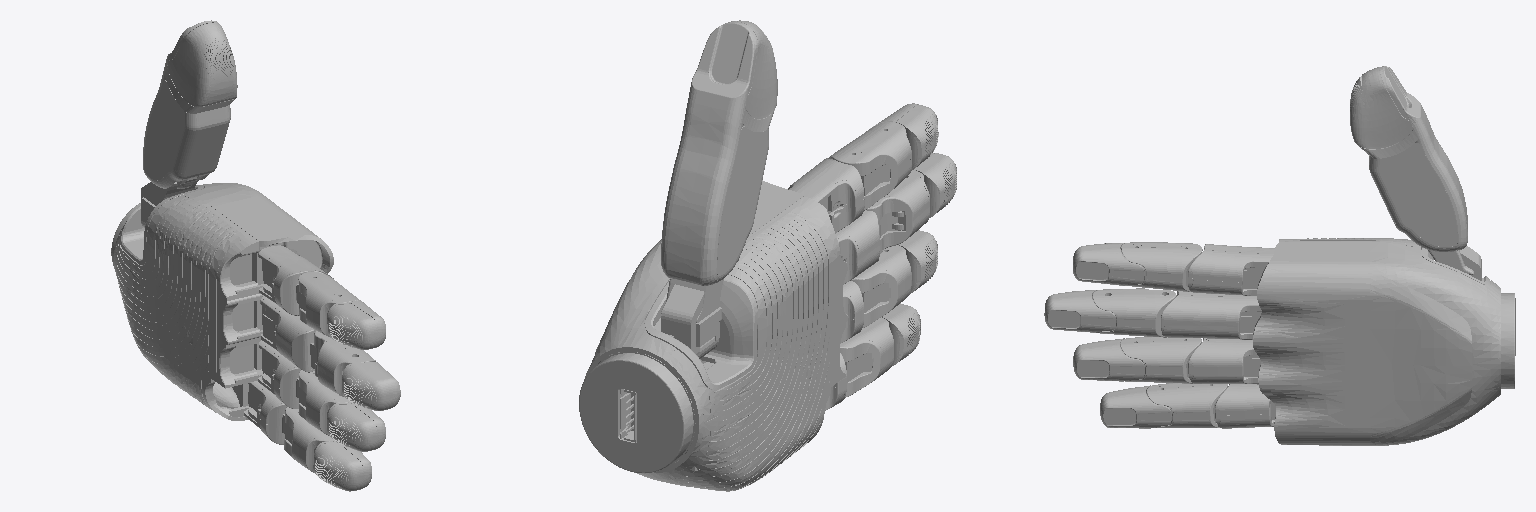
robot.urdf — CASIAHAND-M:
<?xml version="1.0" encoding="utf-8"?>
<!-- This URDF was automatically created by SolidWorks to URDF Exporter! Originally created by Stephen Brawner (brawner@gmail.com) 
     Commit Version: 1.6.0-4-g7f85cfe  Build Version: 1.6.7995.38578
     For more information, please see http://wiki.ros.org/sw_urdf_exporter -->
<robot
  name="CASIAHAND-M">
  
  <link name="world"/>
  <joint name="world_to_hand" type="fixed">
    <parent link="world"/>
    <child link="base_link"/>
    <origin xyz="0 0 0" rpy="-1.5707963 0 3.14"/>
  </joint>

  <link
    name="base_link">
    <inertial>
      <origin
        xyz="0.00164451575302165 -0.000734449147582975 0.0527981317640287"
        rpy="0 0 0" />
      <mass
        value="0.274097437160325" />
      <inertia
        ixx="0.000248493585013908"
        ixy="7.00228415757856E-07"
        ixz="1.84016764910039E-07"
        iyy="0.000147387452936371"
        iyz="1.77909959249099E-05"
        izz="0.000129458679014438" />
    </inertial>
    <visual>
      <origin
        xyz="0 0 0"
        rpy="0 0 0" />
      <geometry>
        <mesh
          filename="meshes/base_link.STL" />
      </geometry>
      <material
        name="">
        <color
          rgba="0.752941176470588 0.752941176470588 0.752941176470588 1" />
      </material>
    </visual>
    <collision>
      <origin
        xyz="0 0 0"
        rpy="0 0 0" />
      <geometry>
        <mesh
          filename="meshes/base_link.STL" />
      </geometry>
    </collision>
  </link>
  <link
    name="Empty_Link1-1">
    <inertial>
      <origin
        xyz="-0.000679874481411311 -0.0105069886903272 0.0112253116499081"
        rpy="0 0 0" />
      <mass
        value="0.00662830922359061" />
      <inertia
        ixx="3.69679305670947E-07"
        ixy="-1.20819402080067E-08"
        ixz="3.0567532310443E-09"
        iyy="1.9191717532638E-07"
        iyz="3.38488131558605E-08"
        izz="3.52242096763109E-07" />
    </inertial>
    <visual>
      <origin
        xyz="0 0 0"
        rpy="0 0 0" />
      <geometry>
        <mesh
          filename="meshes/Empty_Link1-1.STL" />
      </geometry>
      <material
        name="">
        <color
          rgba="0.752941176470588 0.752941176470588 0.752941176470588 1" />
      </material>
    </visual>
    <collision>
      <origin
        xyz="0 0 0"
        rpy="0 0 0" />
      <geometry>
        <mesh
          filename="meshes/Empty_Link1-1.STL" />
      </geometry>
    </collision>
  </link>
  <joint
    name="thumb1"
    type="revolute">
    <origin
      xyz="0.0083614 -0.018144 0.013699"
      rpy="0 0 0" />
    <parent
      link="base_link" />
    <child
      link="Empty_Link1-1" />
    <axis
      xyz="0 0 1" />
    <limit
      lower="0"
      upper="1.57"
      effort="0"
      velocity="0" />
  </joint>
  <link
    name="Empty_Link1-2">
    <inertial>
      <origin
        xyz="0.00497815039889659 -0.0250191973427338 0.00734179672386692"
        rpy="0 0 0" />
      <mass
        value="0.0317327548443066" />
      <inertia
        ixx="1.11134800767335E-05"
        ixy="-1.39415310181854E-08"
        ixz="-3.51996087107295E-08"
        iyy="4.24330856024896E-06"
        iyz="3.14364339451875E-06"
        izz="9.16331523640202E-06" />
    </inertial>
    <visual>
      <origin
        xyz="0 0 0"
        rpy="0 0 0" />
      <geometry>
        <mesh
          filename="meshes/Empty_Link1-2.STL" />
      </geometry>
      <material
        name="">
        <color
          rgba="0.752941176470588 0.752941176470588 0.752941176470588 1" />
      </material>
    </visual>
    <collision>
      <origin
        xyz="0 0 0"
        rpy="0 0 0" />
      <geometry>
        <mesh
          filename="meshes/Empty_Link1-2.STL" />
      </geometry>
    </collision>
  </link>
  <joint
    name="thumb2"
    type="revolute">
    <origin
      xyz="-0.0055 -0.029112 0.020996"
      rpy="0 0 0" />
    <parent
      link="Empty_Link1-1" />
    <child
      link="Empty_Link1-2" />
    <axis
      xyz="1 0 0" />
    <limit
      lower="-1.204"
      upper="0"
      effort="0"
      velocity="0" />
  </joint>
  <link
    name="Empty_Link2-1">
    <inertial>
      <origin
        xyz="-0.00119054522331894 -0.00484453355650832 0.0116663381559276"
        rpy="0 0 0" />
      <mass
        value="0.0100825140915391" />
      <inertia
        ixx="8.15537100412182E-07"
        ixy="-2.95185287307733E-09"
        ixz="1.44982489151734E-08"
        iyy="8.50894015152069E-07"
        iyz="2.29100719817063E-08"
        izz="2.751626034981E-07" />
    </inertial>
    <visual>
      <origin
        xyz="0 0 0"
        rpy="0 0 0" />
      <geometry>
        <mesh
          filename="meshes/Empty_Link2-1.STL" />
      </geometry>
      <material
        name="">
        <color
          rgba="0.752941176470588 0.752941176470588 0.752941176470588 1" />
      </material>
    </visual>
    <collision>
      <origin
        xyz="0 0 0"
        rpy="0 0 0" />
      <geometry>
        <mesh
          filename="meshes/Empty_Link2-1.STL" />
      </geometry>
    </collision>
  </link>
  <joint
    name="index1"
    type="revolute">
    <origin
      xyz="0.0042728 -0.024135 0.10396"
      rpy="0.052045 0 0" />
    <parent
      link="base_link" />
    <child
      link="Empty_Link2-1" />
    <axis
      xyz="0 1 0" />
    <limit
      lower="0"
      upper="1.57"
      effort="0"
      velocity="0" />
  </joint>
  <link
    name="Empty_Link2-2">
    <inertial>
      <origin
        xyz="-4.93323979241544E-05 0.00444870984416025 0.0101448898472118"
        rpy="0 0 0" />
      <mass
        value="0.00639188939844659" />
      <inertia
        ixx="5.44609757728696E-07"
        ixy="-6.82840758881288E-10"
        ixz="-1.33607493142449E-08"
        iyy="5.09411996426482E-07"
        iyz="-1.32856028865584E-09"
        izz="2.61583468282929E-07" />
    </inertial>
    <visual>
      <origin
        xyz="0 0 0"
        rpy="0 0 0" />
      <geometry>
        <mesh
          filename="meshes/Empty_Link2-2.STL" />
      </geometry>
      <material
        name="">
        <color
          rgba="0.752941176470588 0.752941176470588 0.752941176470588 1" />
      </material>
    </visual>
    <collision>
      <origin
        xyz="0 0 0"
        rpy="0 0 0" />
      <geometry>
        <mesh
          filename="meshes/Empty_Link2-2.STL" />
      </geometry>
    </collision>
  </link>
  <joint
    name="index2"
    type="revolute">
    <origin
      xyz="0 -0.0094 0.03"
      rpy="0 0 0" />
    <parent
      link="Empty_Link2-1" />
    <child
      link="Empty_Link2-2" />
    <axis
      xyz="0 1 0" />
    <limit
      lower="0"
      upper="1.57"
      effort="0"
      velocity="0" />
  </joint>
  <link
    name="Empty_Link2-3">
    <inertial>
      <origin
        xyz="-0.00084805515543586 0.00351748598931599 0.0125727966981701"
        rpy="0 0 0" />
      <mass
        value="0.0041298974386508" />
      <inertia
        ixx="1.77070795516936E-07"
        ixy="-1.4570514274562E-12"
        ixz="-2.19532452307079E-09"
        iyy="2.03044151010076E-07"
        iyz="-6.06973705033866E-11"
        izz="1.15107651688296E-07" />
    </inertial>
    <visual>
      <origin
        xyz="0 0 0"
        rpy="0 0 0" />
      <geometry>
        <mesh
          filename="meshes/Empty_Link2-3.STL" />
      </geometry>
      <material
        name="">
        <color
          rgba="0.752941176470588 0.752941176470588 0.752941176470588 1" />
      </material>
    </visual>
    <collision>
      <origin
        xyz="0 0 0"
        rpy="0 0 0" />
      <geometry>
        <mesh
          filename="meshes/Empty_Link2-3.STL" />
      </geometry>
    </collision>
  </link>
  <joint
    name="index3"
    type="revolute">
    <origin
      xyz="0.00017147 0.0010463 0.019999"
      rpy="0 0 0" />
    <parent
      link="Empty_Link2-2" />
    <child
      link="Empty_Link2-3" />
    <axis
      xyz="0 -1 0" />
    <limit
      lower="-0.523"
      upper="0"
      effort="0"
      velocity="0" />
  </joint>
  <link
    name="Empty_Link3-1">
    <inertial>
      <origin
        xyz="-0.000793391517288974 0.00510252185733782 0.0166417479302781"
        rpy="0 0 0" />
      <mass
        value="0.0146233757016484" />
      <inertia
        ixx="1.81585582638692E-06"
        ixy="7.90690263926885E-10"
        ixz="1.05920071765767E-08"
        iyy="1.8938295989291E-06"
        iyz="-3.73588230679576E-08"
        izz="4.17600095897392E-07" />
    </inertial>
    <visual>
      <origin
        xyz="0 0 0"
        rpy="0 0 0" />
      <geometry>
        <mesh
          filename="meshes/Empty_Link3-1.STL" />
      </geometry>
      <material
        name="">
        <color
          rgba="0.752941176470588 0.752941176470588 0.752941176470588 1" />
      </material>
    </visual>
    <collision>
      <origin
        xyz="0 0 0"
        rpy="0 0 0" />
      <geometry>
        <mesh
          filename="meshes/Empty_Link3-1.STL" />
      </geometry>
    </collision>
  </link>
  <joint
    name="middle1"
    type="revolute">
    <origin
      xyz="0.0042728 -0.014418 0.10493"
      rpy="0.017453 0 0" />
    <parent
      link="base_link" />
    <child
      link="Empty_Link3-1" />
    <axis
      xyz="0 1 0" />
    <limit
      lower="0"
      upper="1.57"
      effort="0"
      velocity="0" />
  </joint>
  <link
    name="Empty_Link3-2">
    <inertial>
      <origin
        xyz="-7.59460842865412E-07 -0.00644045993280959 0.0125571137614096"
        rpy="0 0 0" />
      <mass
        value="0.00798996876926034" />
      <inertia
        ixx="5.42498750374713E-07"
        ixy="-1.45145758602452E-11"
        ixz="-4.6296679127425E-08"
        iyy="5.23141232915967E-07"
        iyz="3.39693802728385E-10"
        izz="3.03000062824471E-07" />
    </inertial>
    <visual>
      <origin
        xyz="0 0 0"
        rpy="0 0 0" />
      <geometry>
        <mesh
          filename="meshes/Empty_Link3-2.STL" />
      </geometry>
      <material
        name="">
        <color
          rgba="0.752941176470588 0.752941176470588 0.752941176470588 1" />
      </material>
    </visual>
    <collision>
      <origin
        xyz="0 0 0"
        rpy="0 0 0" />
      <geometry>
        <mesh
          filename="meshes/Empty_Link3-2.STL" />
      </geometry>
    </collision>
  </link>
  <joint
    name="middle2"
    type="revolute">
    <origin
      xyz="0 0.0114 0.037"
      rpy="0 0 0" />
    <parent
      link="Empty_Link3-1" />
    <child
      link="Empty_Link3-2" />
    <axis
      xyz="0 1 0" />
    <limit
      lower="0"
      upper="1.57"
      effort="0"
      velocity="0" />
  </joint>
  <link
    name="Empty_Link3-3">
    <inertial>
      <origin
        xyz="-0.000638063646190289 -0.00560176851121173 0.0122406072781622"
        rpy="0 0 0" />
      <mass
        value="0.00426457038141695" />
      <inertia
        ixx="1.89629725713036E-07"
        ixy="6.51230274507793E-12"
        ixz="-6.70421126583838E-09"
        iyy="2.17543219664299E-07"
        iyz="-2.74576993388861E-11"
        izz="1.18852722281619E-07" />
    </inertial>
    <visual>
      <origin
        xyz="0 0 0"
        rpy="0 0 0" />
      <geometry>
        <mesh
          filename="meshes/Empty_Link3-3.STL" />
      </geometry>
      <material
        name="">
        <color
          rgba="0.752941176470588 0.752941176470588 0.752941176470588 1" />
      </material>
    </visual>
    <collision>
      <origin
        xyz="0 0 0"
        rpy="0 0 0" />
      <geometry>
        <mesh
          filename="meshes/Empty_Link3-3.STL" />
      </geometry>
    </collision>
  </link>
  <joint
    name="middle3"
    type="revolute">
    <origin
      xyz="0 -0.0009 0.023"
      rpy="0 0 0" />
    <parent
      link="Empty_Link3-2" />
    <child
      link="Empty_Link3-3" />
    <axis
      xyz="0 -1 0" />
    <limit
      lower="-0.523"
      upper="0"
      effort="0"
      velocity="0" />
  </joint>
  <link
    name="Empty_Link4-1">
    <inertial>
      <origin
        xyz="-0.0011905453473488 -0.00484453444715233 0.0116663359705611"
        rpy="0 0 0" />
      <mass
        value="0.010082513631395" />
      <inertia
        ixx="8.15537033403925E-07"
        ixy="-2.9519039450205E-09"
        ixz="1.44980922438563E-08"
        iyy="8.50893814404178E-07"
        iyz="2.29100803410995E-08"
        izz="2.75162619594213E-07" />
    </inertial>
    <visual>
      <origin
        xyz="0 0 0"
        rpy="0 0 0" />
      <geometry>
        <mesh
          filename="meshes/Empty_Link4-1.STL" />
      </geometry>
      <material
        name="">
        <color
          rgba="0.752941176470588 0.752941176470588 0.752941176470588 1" />
      </material>
    </visual>
    <collision>
      <origin
        xyz="0 0 0"
        rpy="0 0 0" />
      <geometry>
        <mesh
          filename="meshes/Empty_Link4-1.STL" />
      </geometry>
    </collision>
  </link>
  <joint
    name="ring1"
    type="revolute">
    <origin
      xyz="0.0042728 0.014875 0.10332"
      rpy="-0.017769 0 0" />
    <parent
      link="base_link" />
    <child
      link="Empty_Link4-1" />
    <axis
      xyz="0 1 0" />
    <limit
      lower="0"
      upper="1.57"
      effort="0"
      velocity="0" />
  </joint>
  <link
    name="Empty_Link4-2">
    <inertial>
      <origin
        xyz="-4.93236745716316E-05 0.00443755557092002 0.0101449004875683"
        rpy="0 0 0" />
      <mass
        value="0.00639187770261957" />
      <inertia
        ixx="5.44609480821189E-07"
        ixy="-6.83823659780404E-10"
        ixz="-1.33602750694632E-08"
        iyy="5.09411126668794E-07"
        iyz="-1.32937280635375E-09"
        izz="2.61582675482011E-07" />
    </inertial>
    <visual>
      <origin
        xyz="0 0 0"
        rpy="0 0 0" />
      <geometry>
        <mesh
          filename="meshes/Empty_Link4-2.STL" />
      </geometry>
      <material
        name="">
        <color
          rgba="0.752941176470588 0.752941176470588 0.752941176470588 1" />
      </material>
    </visual>
    <collision>
      <origin
        xyz="0 0 0"
        rpy="0 0 0" />
      <geometry>
        <mesh
          filename="meshes/Empty_Link4-2.STL" />
      </geometry>
    </collision>
  </link>
  <joint
    name="ring2"
    type="revolute">
    <origin
      xyz="0 -0.0094 0.03"
      rpy="0 0 0" />
    <parent
      link="Empty_Link4-1" />
    <child
      link="Empty_Link4-2" />
    <axis
      xyz="0 1 0" />
    <limit
      lower="0"
      upper="1.57"
      effort="0"
      velocity="0" />
  </joint>
  <link
    name="Empty_Link4-3">
    <inertial>
      <origin
        xyz="-0.000848039957553528 0.00351748432267305 0.0125727857835776"
        rpy="0 0 0" />
      <mass
        value="0.0041299157281713" />
      <inertia
        ixx="1.77071358461543E-07"
        ixy="-1.45574247248332E-12"
        ixz="-2.19499214037857E-09"
        iyy="2.03045026713045E-07"
        iyz="-6.11610138384088E-11"
        izz="1.15108485588062E-07" />
    </inertial>
    <visual>
      <origin
        xyz="0 0 0"
        rpy="0 0 0" />
      <geometry>
        <mesh
          filename="meshes/Empty_Link4-3.STL" />
      </geometry>
      <material
        name="">
        <color
          rgba="0.752941176470588 0.752941176470588 0.752941176470588 1" />
      </material>
    </visual>
    <collision>
      <origin
        xyz="0 0 0"
        rpy="0 0 0" />
      <geometry>
        <mesh
          filename="meshes/Empty_Link4-3.STL" />
      </geometry>
    </collision>
  </link>
  <joint
    name="ring3"
    type="revolute">
    <origin
      xyz="0.00017147 0.0010154 0.019999"
      rpy="0 0 0" />
    <parent
      link="Empty_Link4-2" />
    <child
      link="Empty_Link4-3" />
    <axis
      xyz="0 -1 0" />
    <limit
      lower="-0.523"
      upper="0"
      effort="0"
      velocity="0" />
  </joint>
  <link
    name="Empty_Link5-1">
    <inertial>
      <origin
        xyz="-0.00119054560001579 -0.00484453352706459 0.0116663382910342"
        rpy="0 0 0" />
      <mass
        value="0.0100825141829499" />
      <inertia
        ixx="8.15537101518626E-07"
        ixy="-2.95184447335411E-09"
        ixz="1.44982439735622E-08"
        iyy="8.50894019261113E-07"
        iyz="2.29100485241715E-08"
        izz="2.75162612457405E-07" />
    </inertial>
    <visual>
      <origin
        xyz="0 0 0"
        rpy="0 0 0" />
      <geometry>
        <mesh
          filename="meshes/Empty_Link5-1.STL" />
      </geometry>
      <material
        name="">
        <color
          rgba="0.752941176470588 0.752941176470588 0.752941176470588 1" />
      </material>
    </visual>
    <collision>
      <origin
        xyz="0 0 0"
        rpy="0 0 0" />
      <geometry>
        <mesh
          filename="meshes/Empty_Link5-1.STL" />
      </geometry>
    </collision>
  </link>
  <joint
    name="little1"
    type="revolute">
    <origin
      xyz="0.0042728 0.033878 0.092334"
      rpy="-0.052675 0 0" />
    <parent
      link="base_link" />
    <child
      link="Empty_Link5-1" />
    <axis
      xyz="0 1 0" />
    <limit
      lower="0"
      upper="1.57"
      effort="0"
      velocity="0" />
  </joint>
  <link
    name="Empty_Link5-2">
    <inertial>
      <origin
        xyz="-0.000136303895101488 -0.00361418517876005 0.0101441095278357"
        rpy="0 0 0" />
      <mass
        value="0.00639187488430775" />
      <inertia
        ixx="5.44817636318265E-07"
        ixy="-6.72340044538796E-10"
        ixz="-1.0931581145038E-08"
        iyy="5.09410933343947E-07"
        iyz="-1.33538771895222E-09"
        izz="2.61374303559352E-07" />
    </inertial>
    <visual>
      <origin
        xyz="0 0 0"
        rpy="0 0 0" />
      <geometry>
        <mesh
          filename="meshes/Empty_Link5-2.STL" />
      </geometry>
      <material
        name="">
        <color
          rgba="0.752941176470588 0.752941176470588 0.752941176470588 1" />
      </material>
    </visual>
    <collision>
      <origin
        xyz="0 0 0"
        rpy="0 0 0" />
      <geometry>
        <mesh
          filename="meshes/Empty_Link5-2.STL" />
      </geometry>
    </collision>
  </link>
  <joint
    name="little2"
    type="revolute">
    <origin
      xyz="0 -0.0014 0.03"
      rpy="0 0 0" />
    <parent
      link="Empty_Link5-1" />
    <child
      link="Empty_Link5-2" />
    <axis
      xyz="0 1 0" />
    <limit
      lower="0"
      upper="1.57"
      effort="0"
      velocity="0" />
  </joint>
  <link
    name="Empty_Link5-3">
    <inertial>
      <origin
        xyz="-0.000771680257497249 -0.00348251436252543 0.0125777239433789"
        rpy="0 0 0" />
      <mass
        value="0.0041299190946511" />
      <inertia
        ixx="1.77042269555224E-07"
        ixy="-1.6386488553651E-12"
        ixz="-2.57117282164909E-09"
        iyy="2.03045134945853E-07"
        iyz="-6.09727904693777E-11"
        izz="1.15137572688244E-07" />
    </inertial>
    <visual>
      <origin
        xyz="0 0 0"
        rpy="0 0 0" />
      <geometry>
        <mesh
          filename="meshes/Empty_Link5-3.STL" />
      </geometry>
      <material
        name="">
        <color
          rgba="0.752941176470588 0.752941176470588 0.752941176470588 1" />
      </material>
    </visual>
    <collision>
      <origin
        xyz="0 0 0"
        rpy="0 0 0" />
      <geometry>
        <mesh
          filename="meshes/Empty_Link5-3.STL" />
      </geometry>
    </collision>
  </link>
  <joint
    name="little3"
    type="revolute">
    <origin
      xyz="0 0 0.02"
      rpy="0 0 0" />
    <parent
      link="Empty_Link5-2" />
    <child
      link="Empty_Link5-3" />
    <axis
      xyz="0 -1 0" />
    <limit
      lower="-0.523"
      upper="0"
      effort="0"
      velocity="0" />
  </joint>
  <link name="thumb_tip_head"/>
  <link name="index_tip_head"/>
  <link name="middle_tip_head"/>
  <link name="ring_tip_head"/>
  <link name="little_tip_head"/>

  <joint name="thumb_tip" type="fixed">
    <parent link="Empty_Link1-2"/>
    <child link="thumb_tip_head"/>
    <origin rpy="0 0 0" xyz="0.005 -0.06 0.032"/>
  </joint>
  <joint name="index_tip" type="fixed">
    <parent link="Empty_Link2-3"/>
    <child link="index_tip_head"/>
    <origin rpy="0 0 0" xyz="0.0 0.004 0.026"/>
  </joint>
  <joint name="middle_tip" type="fixed">
    <parent link="Empty_Link3-3"/>
    <child link="middle_tip_head"/>
    <origin rpy="0 0 0" xyz="0.0 -0.004 0.026"/>
  </joint>
  <joint name="ring_tip" type="fixed">
    <parent link="Empty_Link4-3"/>
    <child link="ring_tip_head"/>
    <origin rpy="0 0 0" xyz="0.0 0.004 0.026"/>
  </joint>
  <joint name="little_tip" type="fixed">
    <parent link="Empty_Link5-3"/>
    <child link="little_tip_head"/>
    <origin rpy="0 0 0" xyz="0.0 -0.002 0.026"/>
  </joint>
</robot>

--- What the picture shows (computed from the rendered views, not written in the file) ---
The picture shows the robot from 3 angles, left to right: view 1: azimuth 30°, elevation 25°; view 2: azimuth 150°, elevation 25°; view 3: azimuth 270°, elevation 25°; orthographic projection.
Model CASIAHAND-M with 21 links and 20 joints (14 revolute, 6 fixed), rooted at world, posed every joint at zero.
Links seen in each view (by area): view 1: base_link, Empty_Link1-2, Empty_Link3-1, Empty_Link2-1, Empty_Link3-3, Empty_Link2-3, Empty_Link4-3, Empty_Link5-3, Empty_Link2-2, Empty_Link3-2, Empty_Link4-1, Empty_Link5-1 (+3 smaller); view 2: base_link, Empty_Link1-2, Empty_Link2-2, Empty_Link1-1, Empty_Link2-1, Empty_Link3-2, Empty_Link4-2, Empty_Link5-2, Empty_Link3-1, Empty_Link2-3, Empty_Link3-3, Empty_Link4-3 (+2 smaller); view 3: base_link, Empty_Link1-2, Empty_Link3-1, Empty_Link2-1, Empty_Link4-1, Empty_Link3-2, Empty_Link2-2, Empty_Link4-2, Empty_Link5-2, Empty_Link2-3, Empty_Link4-3, Empty_Link3-3 (+3 smaller).
Link boxes in pixels (box(x1,y1,x2,y2)): base_link: box(111, 183, 333, 420); Empty_Link1-2: box(143, 20, 237, 188); Empty_Link3-1: box(260, 296, 319, 372); Empty_Link2-1: box(258, 245, 333, 315); Empty_Link3-3: box(342, 362, 400, 410); Empty_Link2-3: box(327, 301, 385, 349); Empty_Link4-3: box(327, 402, 385, 451); Empty_Link5-3: box(313, 441, 371, 491); Empty_Link2-2: box(298, 272, 360, 336); Empty_Link3-2: box(314, 331, 375, 396); Empty_Link4-1: box(258, 340, 300, 408); Empty_Link5-1: box(244, 381, 286, 444); base_link: box(579, 180, 848, 491); Empty_Link1-2: box(661, 20, 777, 285); Empty_Link2-2: box(828, 122, 911, 210); Empty_Link1-1: box(661, 279, 723, 358); Empty_Link2-1: box(788, 158, 864, 233); Empty_Link3-2: box(867, 170, 929, 253); Empty_Link4-2: box(851, 245, 911, 327); Empty_Link5-2: box(840, 317, 893, 397); Empty_Link3-1: box(836, 210, 880, 283); Empty_Link2-3: box(870, 103, 938, 170); Empty_Link3-3: box(914, 153, 956, 217); Empty_Link4-3: box(899, 230, 937, 293); base_link: box(1253, 238, 1515, 445); Empty_Link1-2: box(1350, 66, 1467, 251); Empty_Link3-1: box(1161, 291, 1261, 339); Empty_Link2-1: box(1188, 244, 1274, 295); Empty_Link4-1: box(1188, 338, 1260, 383); Empty_Link3-2: box(1092, 288, 1176, 337); Empty_Link2-2: box(1121, 242, 1202, 291); Empty_Link4-2: box(1120, 337, 1201, 383); Empty_Link5-2: box(1146, 383, 1227, 427); Empty_Link2-3: box(1073, 243, 1143, 285); Empty_Link4-3: box(1073, 338, 1144, 381); Empty_Link3-3: box(1044, 290, 1115, 332).
Size in the robot's own frame: 0.0491 by 0.1907 by 0.1587 metres.
Meshes: 15 distinct files referenced, 15 mesh visuals loaded (15 binary STL).
